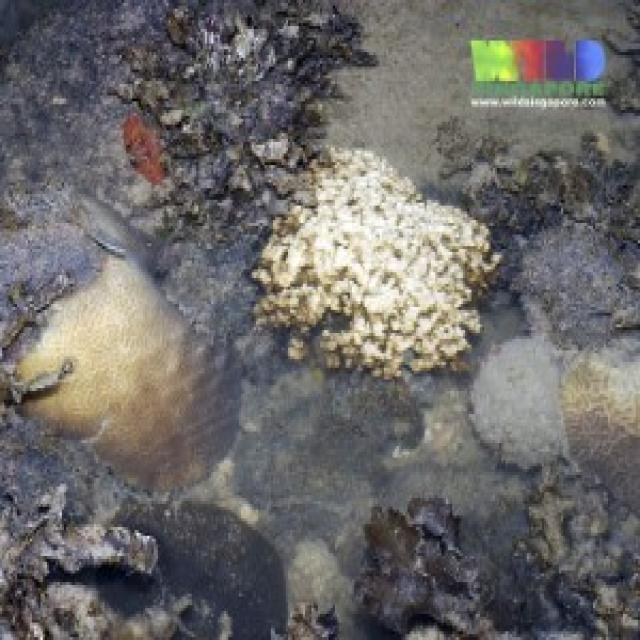Bleached Coral: (259, 120, 505, 395)
